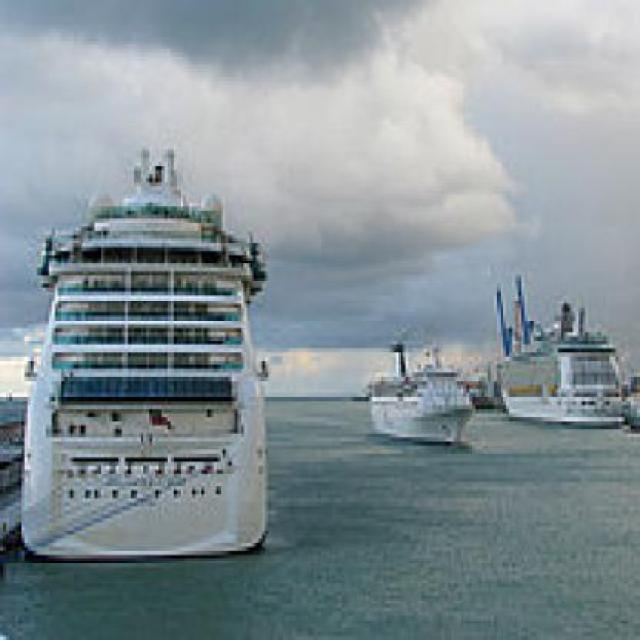cruise: (8, 131, 297, 577), (486, 264, 638, 455), (358, 316, 489, 455)
